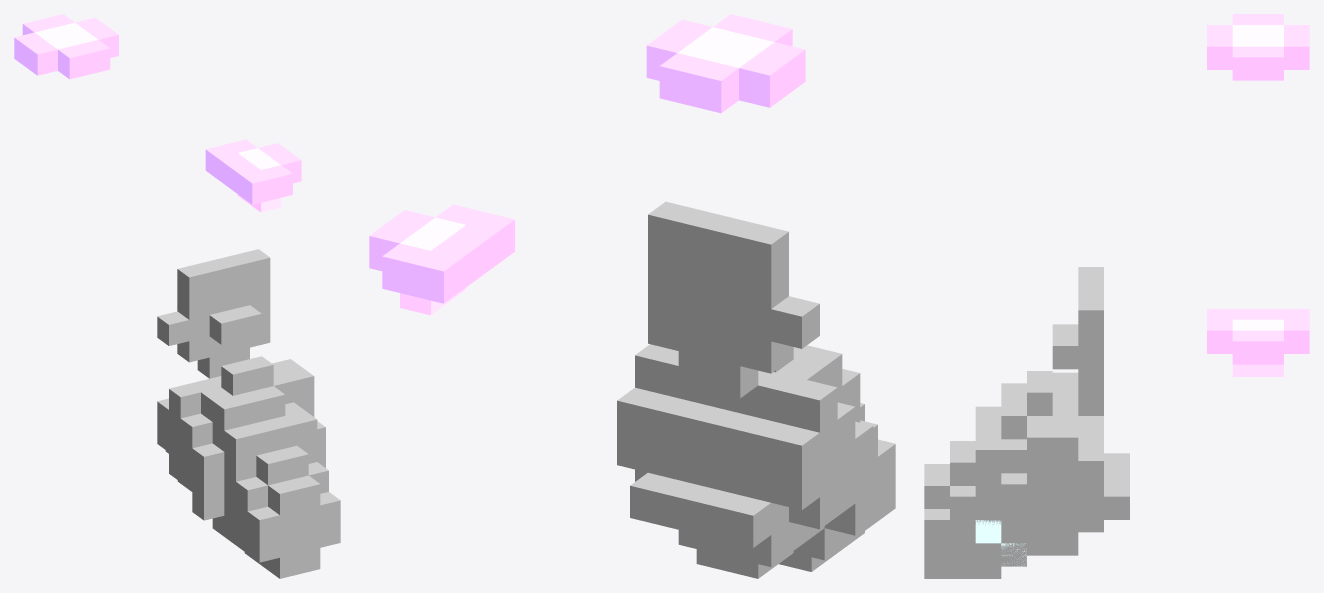
Rendered from IceDrill_B_T4_Upgrades.fbx.
3 views of the same model, side by side, from view 1: azimuth 30°, elevation 25°; view 2: azimuth 150°, elevation 25°; view 3: azimuth 270°, elevation 25° (orthographic). The views are drawn at different scales.
Visible parts, largest first — view 1: IceDrillT4U1Moonstone, IceDrillT4U5Diamond, IceDrillT4U3Moonstone, IceDrillT4U2RuneVioletGlow, IceDrillT4U1SteelLight, IceDrillT4U2MagicPinkGlow, IceDrillT4U3Gold; view 2: IceDrillT4U5Diamond, IceDrillT4U1Moonstone, IceDrillT4U3Moonstone, IceDrillT4U2RuneVioletGlow, IceDrillT4U1SteelLight, IceDrillT4U2MagicPinkGlow, IceDrillT4U3Gold; view 3: IceDrillT4U1Moonstone, IceDrillT4U5Diamond, IceDrillT4U2RuneVioletGlow, IceDrillT4U3Moonstone, IceDrillT4U1SteelLight, IceDrillT4U2MagicPinkGlow, IceDrillT4U3Gold, IceDrillT4U5CrystalCyanGlow.
Boxes of the visible parts, x1,y1,x2,y2 form: IceDrillT4U1Moonstone: [157, 356, 340, 578]; IceDrillT4U5Diamond: [157, 359, 340, 577]; IceDrillT4U3Moonstone: [157, 249, 270, 378]; IceDrillT4U2RuneVioletGlow: [14, 14, 301, 204]; IceDrillT4U1SteelLight: [169, 359, 328, 493]; IceDrillT4U2MagicPinkGlow: [35, 22, 281, 212]; IceDrillT4U3Gold: [209, 305, 261, 344]; IceDrillT4U5Diamond: [617, 344, 895, 578]; IceDrillT4U1Moonstone: [617, 345, 877, 571]; IceDrillT4U3Moonstone: [648, 201, 819, 398]; IceDrillT4U2RuneVioletGlow: [369, 14, 805, 303]; IceDrillT4U1SteelLight: [617, 344, 855, 558]; IceDrillT4U2MagicPinkGlow: [400, 27, 774, 315]; IceDrillT4U3Gold: [678, 287, 740, 333]; IceDrillT4U1Moonstone: [924, 371, 1129, 578]; IceDrillT4U5Diamond: [924, 372, 1129, 566]; IceDrillT4U2RuneVioletGlow: [1207, 14, 1309, 364]; IceDrillT4U3Moonstone: [1078, 267, 1103, 415]; IceDrillT4U1SteelLight: [950, 427, 1103, 543]; IceDrillT4U2MagicPinkGlow: [1232, 25, 1283, 376]; IceDrillT4U3Gold: [1052, 324, 1078, 369]; IceDrillT4U5CrystalCyanGlow: [975, 520, 1026, 566].
Size of the model in its own units: 162 by 262 by 188.
